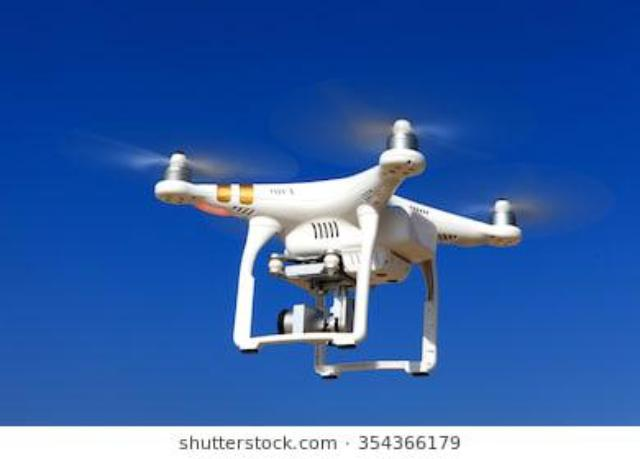drone: (0, 35, 640, 409)
